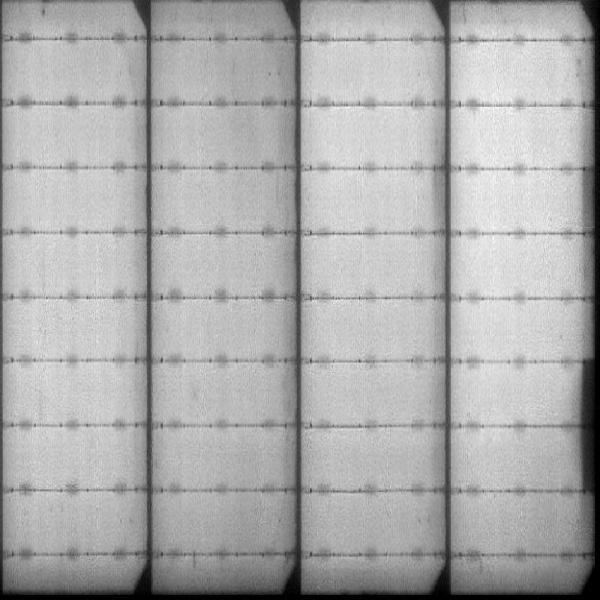black_border: (578, 355, 600, 500)
